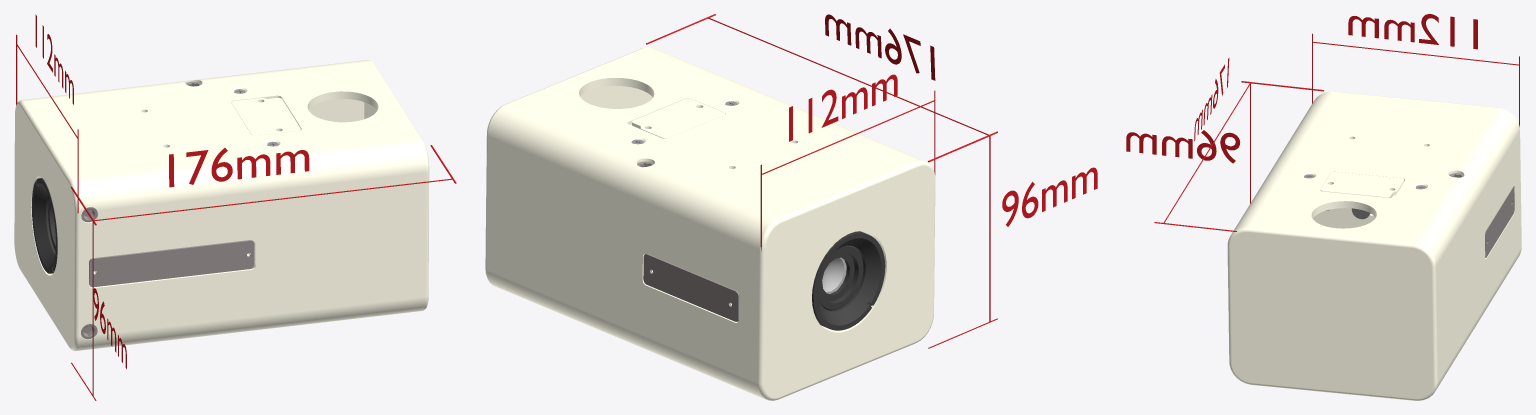
Rendered from demo.glb.
The picture shows the model from 3 angles, left to right: view 1: azimuth 30°, elevation 25°; view 2: azimuth 150°, elevation 25°; view 3: azimuth 270°, elevation 25°; orthographic projection. The views are drawn at different scales.
Visible parts, largest first — view 1: 本体, 密閉カバー, 銘板, ねじ調節用板_上, 先端, テキスト.001, 円柱.002, テキスト, テキスト.002, 円柱.003, 円柱.001; view 2: 本体, 密閉カバー, 先端, ロゴ板, ねじ調節用板_上, テキスト.001, テキスト.002, テキスト, 全面筒, 円柱.002, 円柱.001, レンズ (+2 smaller); view 3: 密閉カバー, 本体, ねじ調節用板_上, テキスト.002, テキスト, 背面板, ロゴ板, 円柱.002, 円柱.001, テキスト.001.
Boxes of the visible parts, <box> form: 本体: <box>14,78,268,351</box>; 密閉カバー: <box>211,60,429,329</box>; 銘板: <box>89,240,254,287</box>; ねじ調節用板_上: <box>231,98,300,135</box>; 先端: <box>31,178,57,273</box>; テキスト.001: <box>169,148,309,187</box>; 円柱.002: <box>70,145,456,225</box>; テキスト: <box>35,14,73,104</box>; テキスト.002: <box>93,288,126,368</box>; 円柱.003: <box>71,186,96,400</box>; 円柱.001: <box>16,34,78,213</box>; 本体: <box>609,98,935,400</box>; 密閉カバー: <box>485,47,774,336</box>; 先端: <box>812,231,885,330</box>; ロゴ板: <box>643,253,739,321</box>; ねじ調節用板_上: <box>632,98,725,138</box>; テキスト.001: <box>825,14,935,80</box>; テキスト.002: <box>1002,167,1097,226</box>; テキスト: <box>789,74,897,141</box>; 全面筒: <box>817,245,863,310</box>; 円柱.002: <box>646,14,997,162</box>; 円柱.001: <box>760,90,935,250</box>; レンズ: <box>822,257,846,293</box>; 密閉カバー: <box>1227,166,1475,400</box>; 本体: <box>1269,91,1521,328</box>; ねじ調節用板_上: <box>1320,172,1404,197</box>; テキスト.002: <box>1126,130,1240,163</box>; テキスト: <box>1348,14,1477,49</box>; 背面板: <box>1313,208,1375,228</box>; ロゴ板: <box>1485,187,1514,257</box>; 円柱.002: <box>1154,81,1323,231</box>; 円柱.001: <box>1312,33,1519,126</box>; テキスト.001: <box>1194,57,1229,140</box>.
Size of the model in its own units: 0.2259 by 0.1469 by 0.2054.
